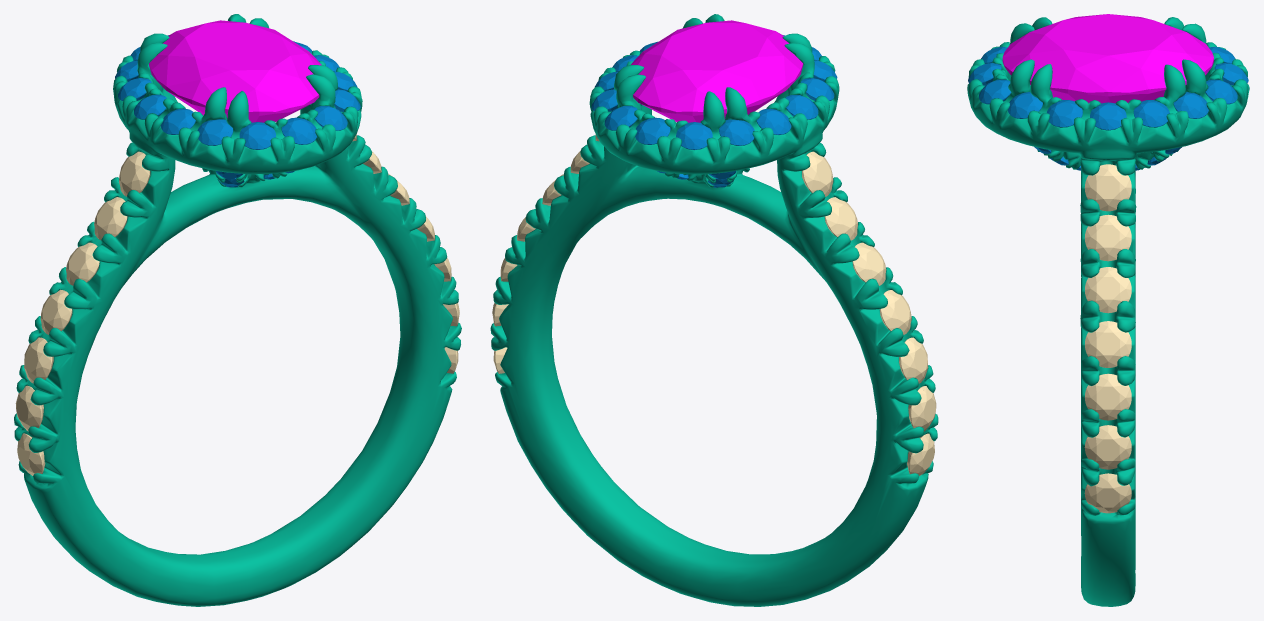
The model's file is BE1D4612_OV_200ct_RENDER.glb.
3 renders of one model, left to right at view 1: azimuth 30°, elevation 25°; view 2: azimuth 150°, elevation 25°; view 3: azimuth 270°, elevation 25°, orthographic.
Visible parts, largest first — view 1: Metal 01, CS_Diamond_Oval, Diamond_Round_Gem_SH.002, Diamond_Round_Gem_SH.001, Diamond_Round_Gem_SH.003, Diamond_Round_Gem_SH, Diamond_Round_Gem_SH.004, Diamond_Round_Gem_SH.005, Diamond_Round_Gem_HD.015, Diamond_Round_Gem_SH.006, Diamond_Round_Gem_HD.014, Diamond_Round_Gem_HD (+1 smaller); view 2: Metal 01, CS_Diamond_Oval, Diamond_Round_Gem_SH.002, Diamond_Round_Gem_SH.001, Diamond_Round_Gem_SH.003, Diamond_Round_Gem_SH, Diamond_Round_Gem_SH.004, Diamond_Round_Gem_SH.005, Diamond_Round_Gem_HD.009, Diamond_Round_Gem_SH.006, Diamond_Round_Gem_HD.010, Diamond_Round_Gem_HD.008 (+1 smaller); view 3: Metal 01, CS_Diamond_Oval, Diamond_Round_Gem_SH.007, Diamond_Round_Gem_SH.010, Diamond_Round_Gem_SH.011, Diamond_Round_Gem_SH.008, Diamond_Round_Gem_SH.009, Diamond_Round_Gem_SH.012, Diamond_Round_Gem_SH.013, Diamond_Round_Gem_HD.004, Diamond_Round_Gem_HD.003, Diamond_Round_Gem_HD.005 (+6 smaller).
Part boxes in pixels (<box>): Metal 01: <box>14,14,461,606</box>; CS_Diamond_Oval: <box>149,20,321,122</box>; Diamond_Round_Gem_SH.002: <box>66,242,99,285</box>; Diamond_Round_Gem_SH.001: <box>94,197,127,240</box>; Diamond_Round_Gem_SH.003: <box>40,289,72,334</box>; Diamond_Round_Gem_SH: <box>119,151,150,196</box>; Diamond_Round_Gem_SH.004: <box>24,337,53,383</box>; Diamond_Round_Gem_SH.005: <box>15,385,43,431</box>; Diamond_Round_Gem_HD.015: <box>239,122,275,149</box>; Diamond_Round_Gem_SH.006: <box>17,433,45,475</box>; Diamond_Round_Gem_HD.014: <box>197,119,233,145</box>; Diamond_Round_Gem_HD: <box>281,117,316,144</box>; Metal 01: <box>490,14,938,606</box>; CS_Diamond_Oval: <box>631,20,803,122</box>; Diamond_Round_Gem_SH.002: <box>852,242,886,285</box>; Diamond_Round_Gem_SH.001: <box>824,197,857,240</box>; Diamond_Round_Gem_SH.003: <box>879,290,911,334</box>; Diamond_Round_Gem_SH: <box>802,151,833,196</box>; Diamond_Round_Gem_SH.004: <box>899,337,928,383</box>; Diamond_Round_Gem_SH.005: <box>908,386,936,431</box>; Diamond_Round_Gem_HD.009: <box>676,122,712,149</box>; Diamond_Round_Gem_SH.006: <box>907,433,934,475</box>; Diamond_Round_Gem_HD.010: <box>719,119,754,145</box>; Diamond_Round_Gem_HD.008: <box>635,117,670,144</box>; Metal 01: <box>967,17,1249,606</box>; CS_Diamond_Oval: <box>1002,14,1213,103</box>; Diamond_Round_Gem_SH.007: <box>1084,164,1131,211</box>; Diamond_Round_Gem_SH.010: <box>1085,321,1131,367</box>; Diamond_Round_Gem_SH.011: <box>1085,373,1131,420</box>; Diamond_Round_Gem_SH.008: <box>1085,214,1131,261</box>; Diamond_Round_Gem_SH.009: <box>1085,267,1131,313</box>; Diamond_Round_Gem_SH.012: <box>1084,425,1131,469</box>; Diamond_Round_Gem_SH.013: <box>1084,473,1131,513</box>; Diamond_Round_Gem_HD.004: <box>1090,102,1126,130</box>; Diamond_Round_Gem_HD.003: <box>1047,100,1082,127</box>; Diamond_Round_Gem_HD.005: <box>1133,100,1169,127</box>.
Bounding box in the file's own units: 21.21 × 25.77 × 12.02.
